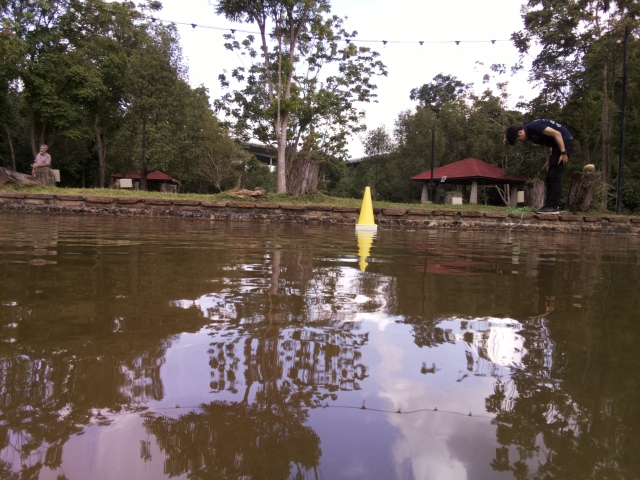checkpoint: (354, 185, 379, 232)
